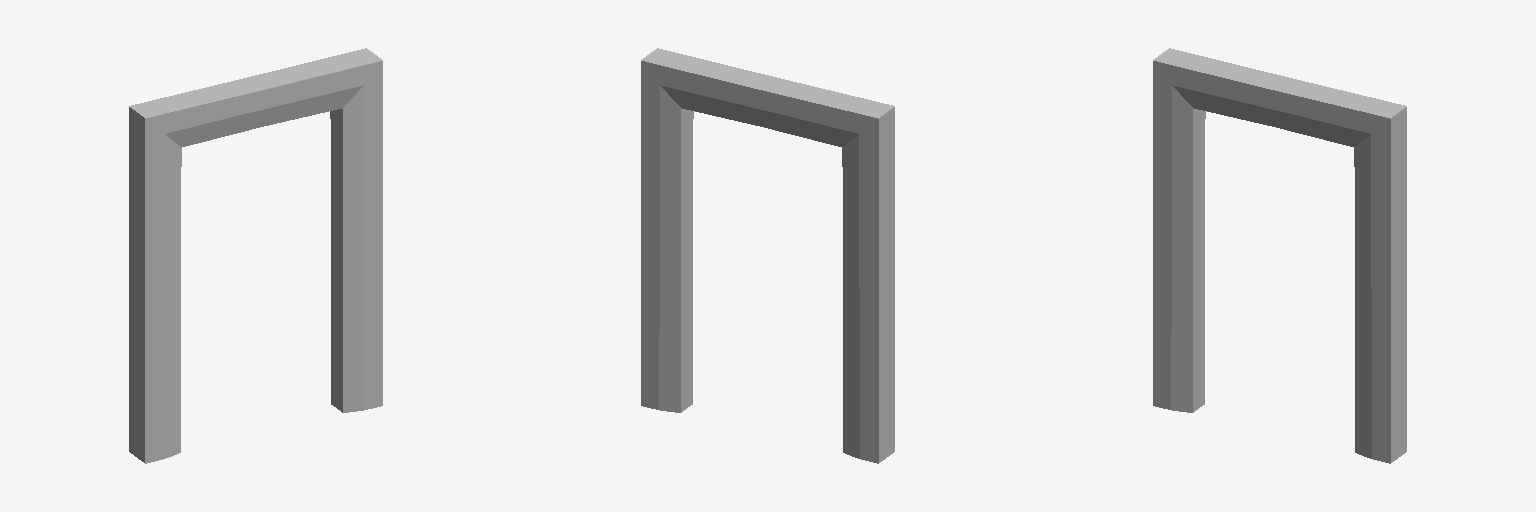
The model's file is DoorFrame.obj.
The picture shows the model from 3 angles: view 1: azimuth 30°, elevation 25°; view 2: azimuth 150°, elevation 25°; view 3: azimuth 330°, elevation 25°; orthographic projection.
Visible parts, largest first — view 1: DoorFrame_Cube.018; view 2: DoorFrame_Cube.018; view 3: DoorFrame_Cube.018.
Part boxes in pixels (x1,y1,x2,y2): DoorFrame_Cube.018: (129, 48, 382, 463); DoorFrame_Cube.018: (641, 48, 894, 463); DoorFrame_Cube.018: (1153, 48, 1406, 463).
Bounding box in the file's own units: 2.51 × 3.49 × 0.3088.